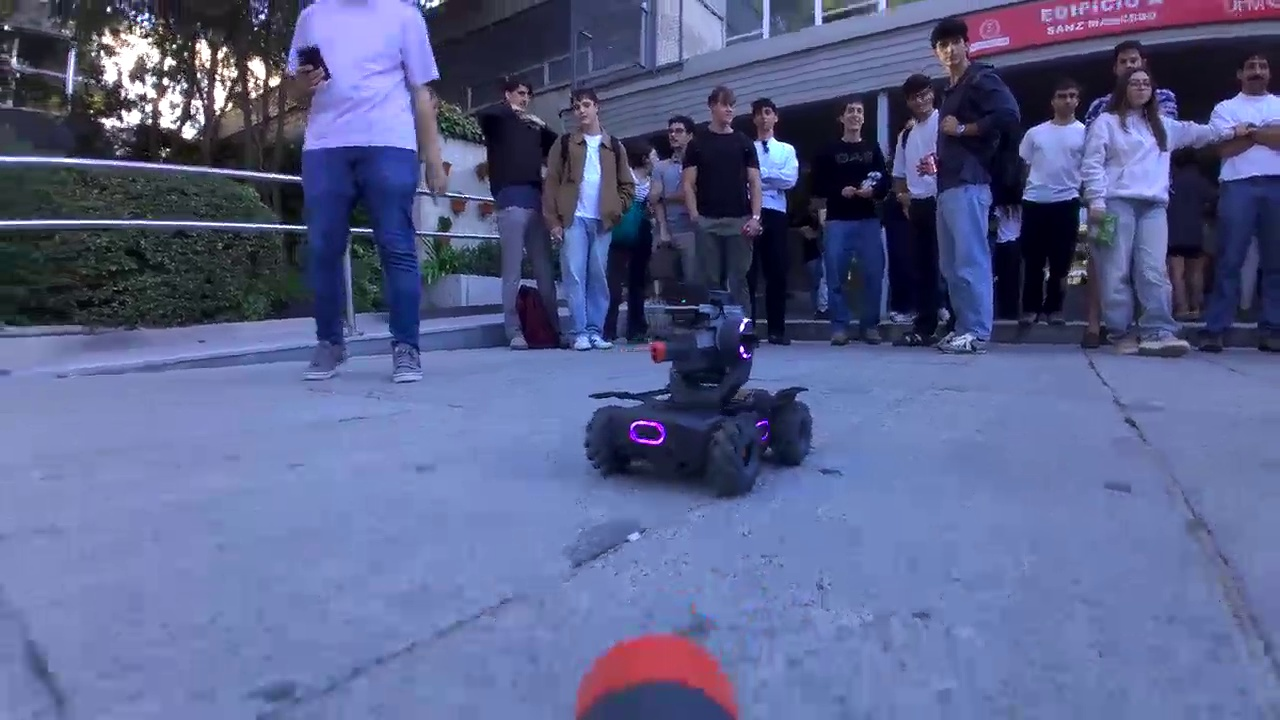robot: (570, 296, 846, 521)
